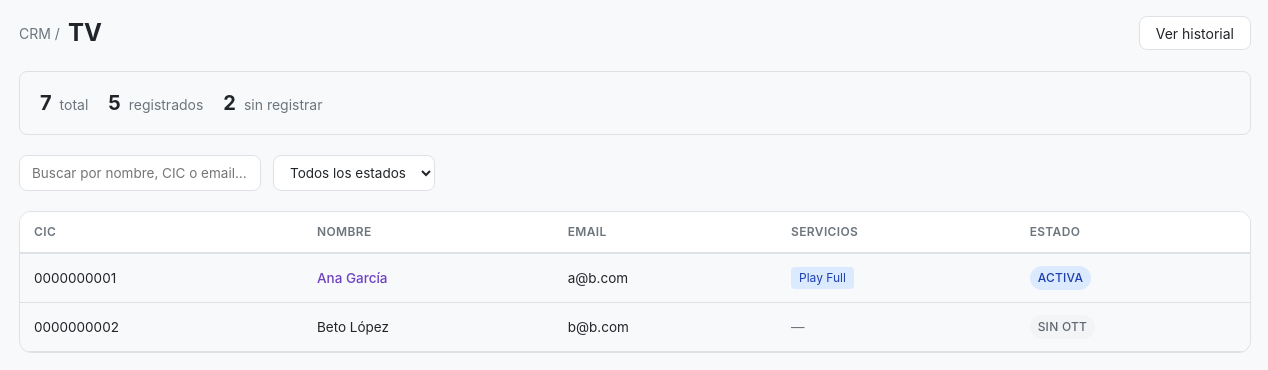
Test: GigaredAccountsPage › filters by CIC substring (case-insensitive) after debounce
Type "0000000002" into the field with placeholder "Buscar por nombre, CIC o email…" at [140, 173], box 19,155 -> 261,191
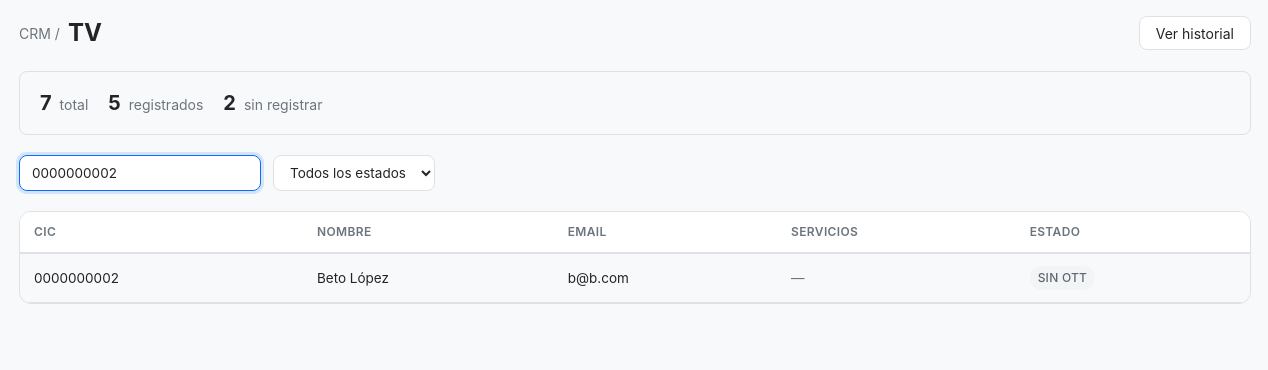
Expected: the text "0000000002" is shown, 20,253 -> 303,302
Now the text "0000000001" is gone
